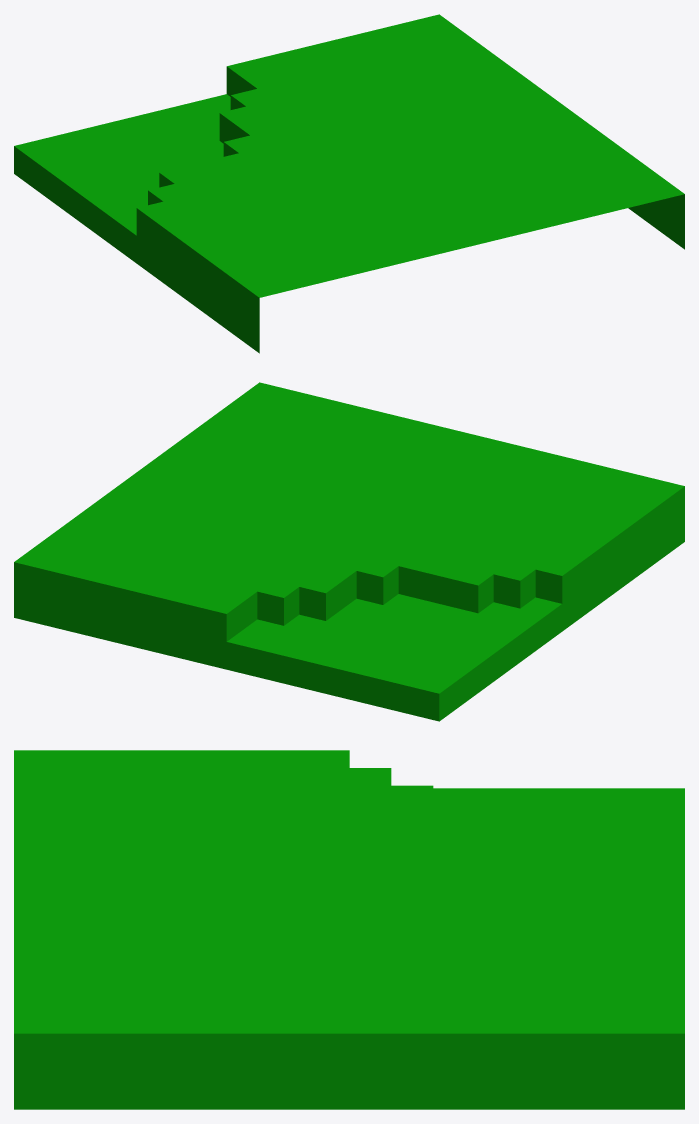
Rendered from Corner7.fbx.
3 renders of one model, top to bottom at view 1: azimuth 30°, elevation 25°; view 2: azimuth 150°, elevation 25°; view 3: azimuth 270°, elevation 25°, orthographic. The views are drawn at different scales.
Parts seen in each view (by area): view 1: Matrix; view 2: Matrix; view 3: Matrix.
Boxes of the visible parts, x1,y1,x2,y2 form: Matrix: (14,14,684,353); Matrix: (14,382,684,721); Matrix: (14,750,684,1109).
Size of the model in its own units: 16 by 2 by 16.
1 material, 1 textured.
